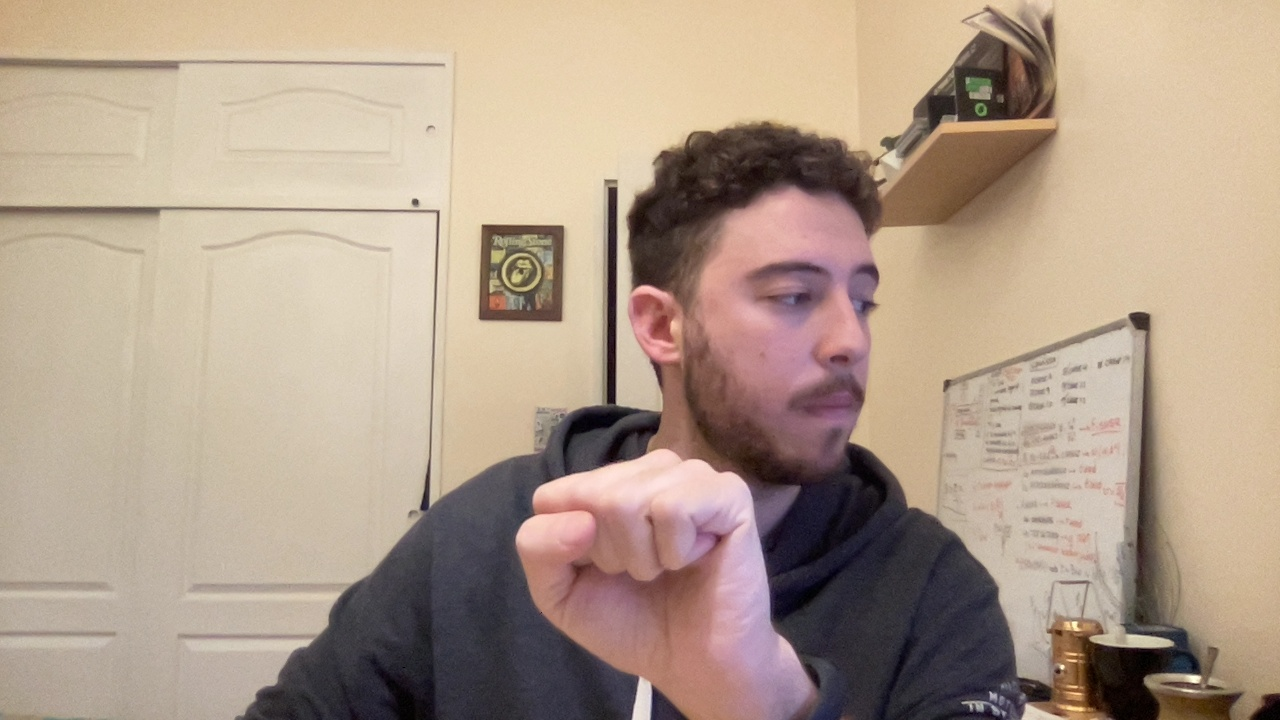cerrado: (492, 442, 796, 677)
